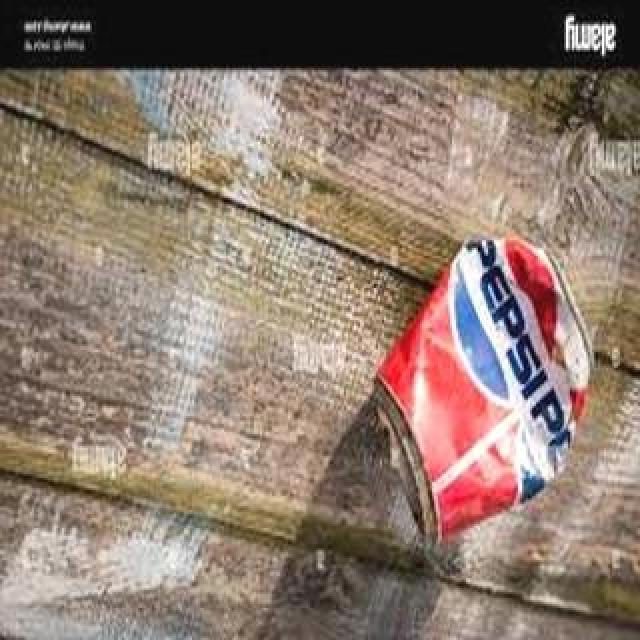Can: (337, 221, 619, 545)
